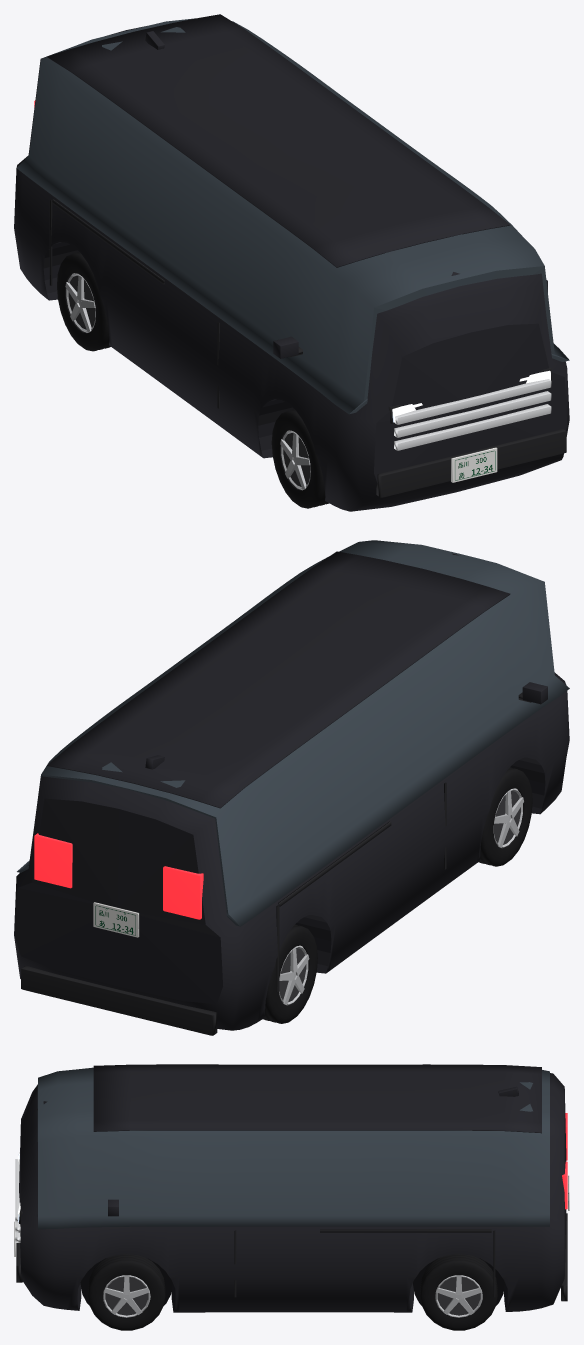
Rendered from car_minivan_v1.glb.
3 views of the same model, one above another, from view 1: azimuth 30°, elevation 25°; view 2: azimuth 150°, elevation 25°; view 3: azimuth 270°, elevation 25° (orthographic). The views are drawn at different scales.
Visible parts, largest first — view 1: Body, GlassCanopy, RoofPanel, FrontIntake, Wheel_FL_tire, Wheel_RL_tire, GrilleBar, GrilleBar.001, GrilleBar.002, PlateFace, SlideRail; view 2: Body, GlassCanopy, RoofPanel, RearValance, Wheel_FL_tire, Wheel_RL_tire, TailLight, TailLight.001, PlateFace.001, SlideRail; view 3: GlassCanopy, Body, RoofPanel, Wheel_FR_tire, Wheel_RR_tire, Wheel_RR_barrel, Wheel_FR_barrel, SlideRail.001, Wheelhouse, Wheelhouse.001.
Part boxes in pixels (left/top/right/bottom): Body: left=14, top=26, right=569, bottom=511; GlassCanopy: left=16, top=18, right=569, bottom=414; RoofPanel: left=47, top=14, right=510, bottom=267; FrontIntake: left=376, top=429, right=566, bottom=497; Wheel_FL_tire: left=271, top=409, right=328, bottom=508; Wheel_RL_tire: left=57, top=252, right=110, bottom=351; GrilleBar: left=394, top=404, right=551, bottom=450; GrilleBar.001: left=394, top=391, right=551, bottom=437; GrilleBar.002: left=395, top=379, right=551, bottom=424; PlateFace: left=454, top=449, right=495, bottom=481; SlideRail: left=52, top=199, right=164, bottom=284; Body: left=14, top=553, right=569, bottom=1030; GlassCanopy: left=17, top=540, right=569, bottom=926; RoofPanel: left=47, top=551, right=510, bottom=808; RearValance: left=21, top=966, right=217, bottom=1035; Wheel_FL_tire: left=478, top=767, right=532, bottom=866; Wheel_RL_tire: left=262, top=924, right=317, bottom=1023; TailLight: left=163, top=866, right=203, bottom=919; TailLight.001: left=34, top=833, right=72, bottom=888; PlateFace.001: left=95, top=904, right=136, bottom=936; SlideRail: left=278, top=821, right=391, bottom=906; GlassCanopy: left=37, top=1067, right=549, bottom=1229; Body: left=19, top=1073, right=566, bottom=1312; RoofPanel: left=93, top=1064, right=541, bottom=1133; Wheel_FR_tire: left=88, top=1254, right=165, bottom=1330; Wheel_RR_tire: left=420, top=1254, right=497, bottom=1330; Wheel_RR_barrel: left=437, top=1277, right=480, bottom=1315; Wheel_FR_barrel: left=105, top=1277, right=147, bottom=1315; SlideRail.001: left=320, top=1229, right=491, bottom=1232; Wheelhouse: left=80, top=1258, right=172, bottom=1318; Wheelhouse.001: left=413, top=1258, right=504, bottom=1318.
Bounding box in the file's own units: 2.16 × 2.03 × 5.02.
14 materials, 1 textured.
